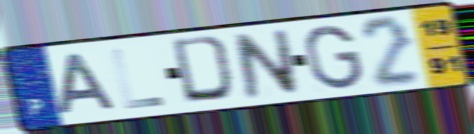2: (359, 14, 428, 92)
A: (56, 51, 120, 118)
D: (169, 33, 241, 105)
G: (302, 23, 366, 92)
L: (109, 46, 168, 111)
N: (231, 27, 302, 101)
